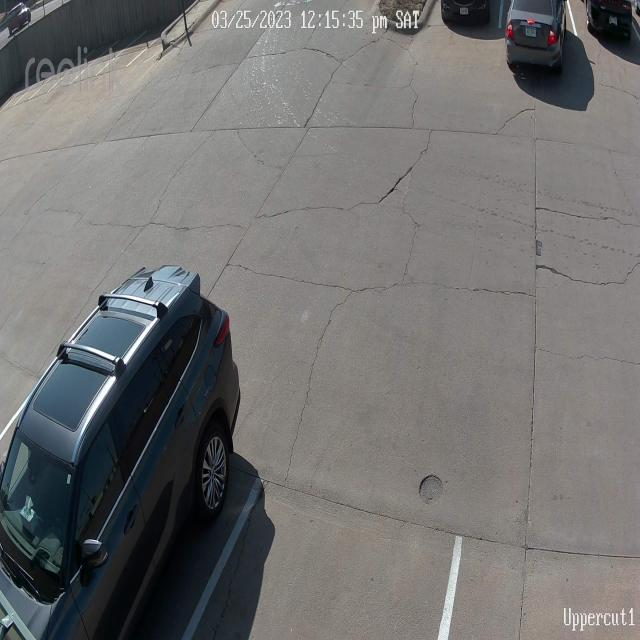Empty-slot: (186, 469, 468, 640), (436, 469, 640, 640), (0, 262, 72, 445)
Slot-Occupied: (0, 272, 236, 640), (506, 0, 593, 97), (584, 0, 638, 60), (442, 0, 503, 45)
